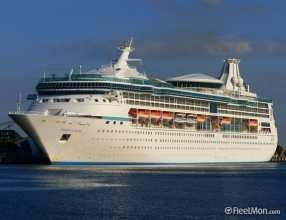youlun: (6, 36, 282, 165)
